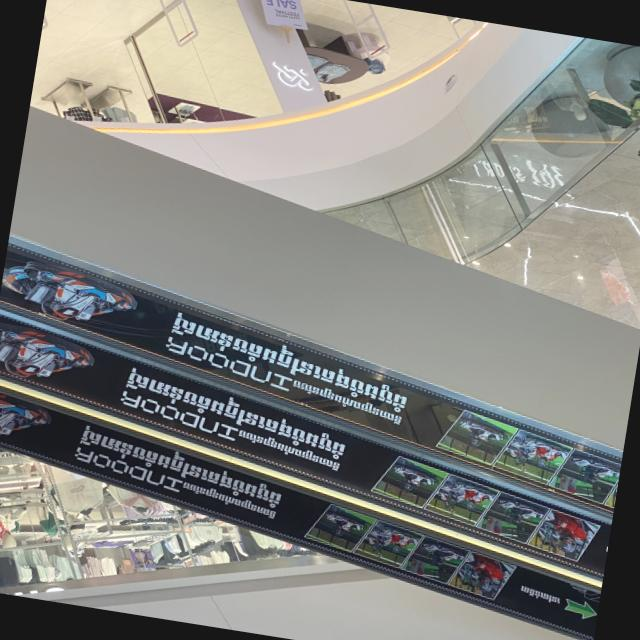Yolov11kh: (164, 307, 417, 415), (119, 361, 354, 461), (74, 421, 288, 511), (285, 376, 405, 428), (234, 426, 343, 474), (178, 478, 278, 522), (520, 583, 562, 608)
